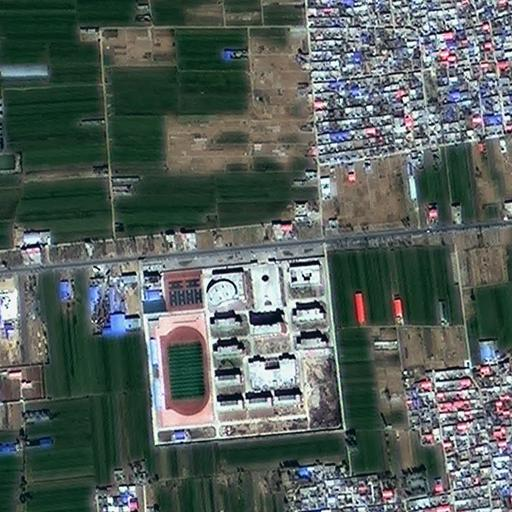school: (136, 252, 345, 447)
